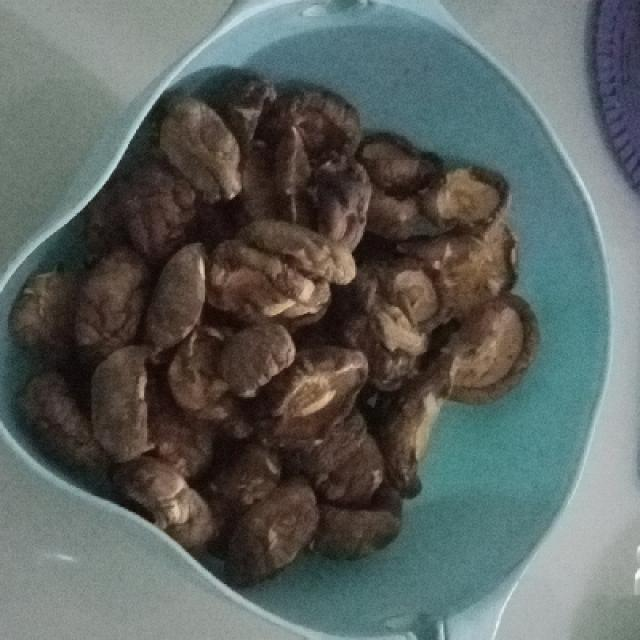Lentinus edodes: (14, 69, 539, 575)
